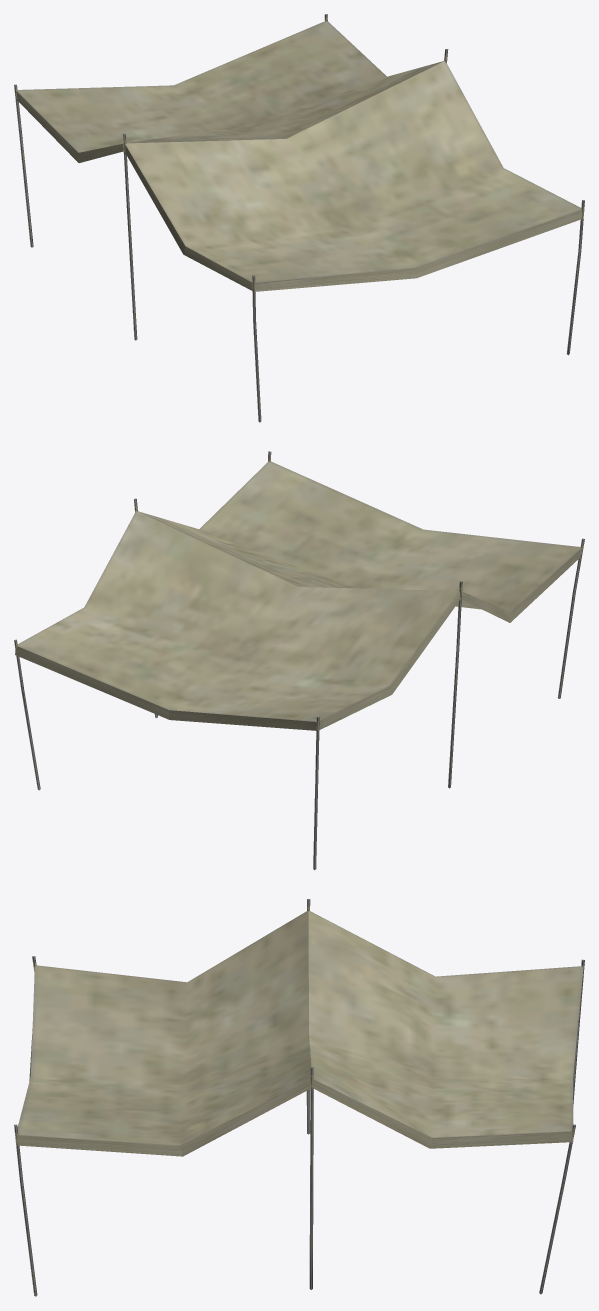
File: poi_corl_tent_med_l2.fbx
The picture shows the model from 3 angles, top to bottom: view 1: azimuth 30°, elevation 25°; view 2: azimuth 150°, elevation 25°; view 3: azimuth 270°, elevation 25°; orthographic projection. The views are drawn at different scales.
Visible parts, largest first — view 1: mesh_node; view 2: mesh_node; view 3: mesh_node.
Boxes of the visible parts, <box> form: mesh_node: <box>14,14,584,422</box>; mesh_node: <box>14,451,584,870</box>; mesh_node: <box>14,899,584,1296</box>.
Bounding box in the file's own units: 6.53 × 4.07 × 9.03.
